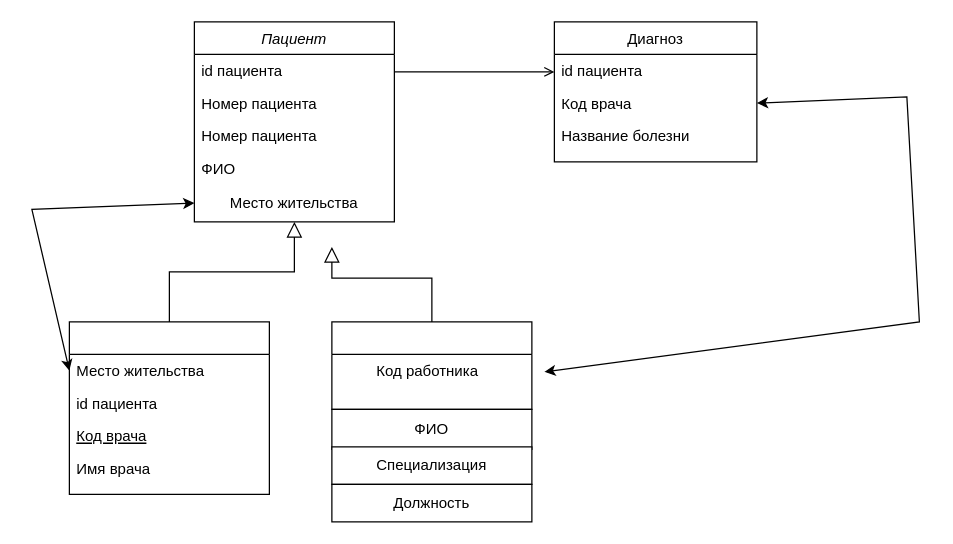
Some shapes in this 953 by 544 pixel diagram are drawn without their labels. The box of each missing label's shape, as (x1, y1, x2, y2) in pixels:
Врач: (331, 321, 532, 409)
Регистратура: (68, 321, 269, 494)
